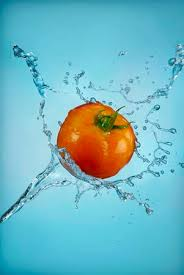tomato: (57, 103, 136, 180)
